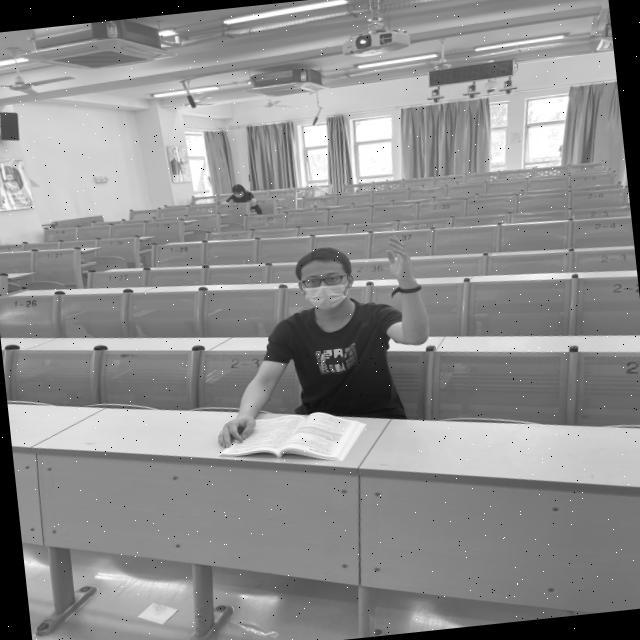study: (201, 235, 438, 462)
